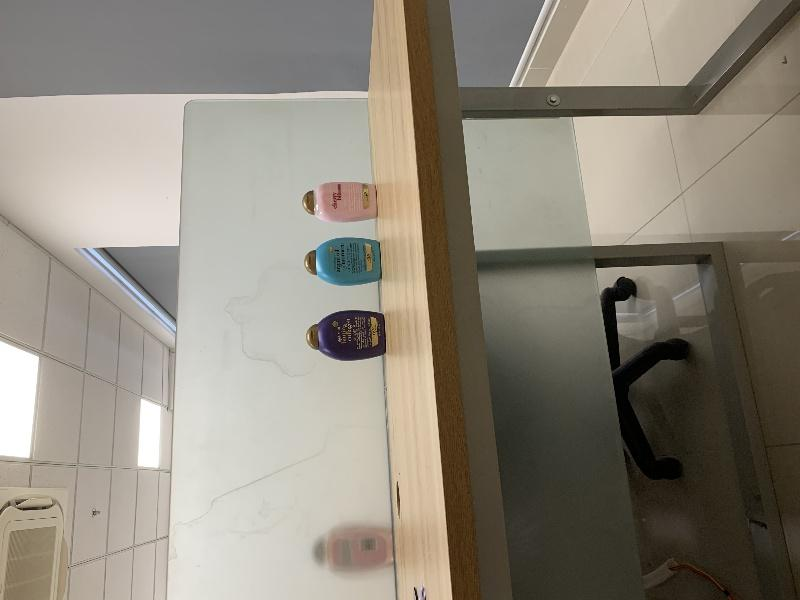ArganOilOfMorocco_Conditioner: (304, 237, 381, 286)
BiotinCollagen_Shampoo: (306, 310, 385, 361)
CherryBlossom_Conditioner: (302, 182, 378, 223)
